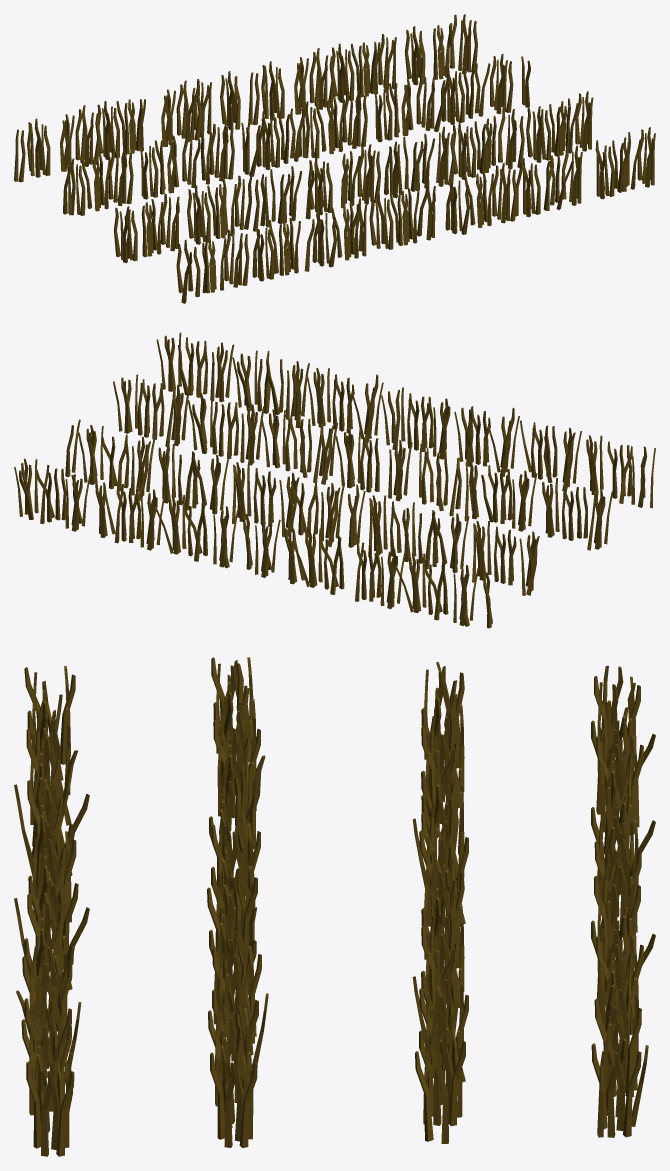
Rendered from Farm_FirstAge_Level2_Wheat.obj.
The picture shows the model from 3 angles, top to bottom: view 1: azimuth 30°, elevation 25°; view 2: azimuth 150°, elevation 25°; view 3: azimuth 270°, elevation 25°; orthographic projection. The views are drawn at different scales.
Parts seen in each view (by area): view 1: Farm_FirstAge_Level2_Wheat_Cube.281; view 2: Farm_FirstAge_Level2_Wheat_Cube.281; view 3: Farm_FirstAge_Level2_Wheat_Cube.281.
Part boxes in pixels (x1,y1,x2,y2): Farm_FirstAge_Level2_Wheat_Cube.281: [14, 14, 655, 303]; Farm_FirstAge_Level2_Wheat_Cube.281: [14, 332, 655, 628]; Farm_FirstAge_Level2_Wheat_Cube.281: [14, 657, 655, 1156].
Size of the model in its own units: 1.68 by 0.1883 by 1.1.
